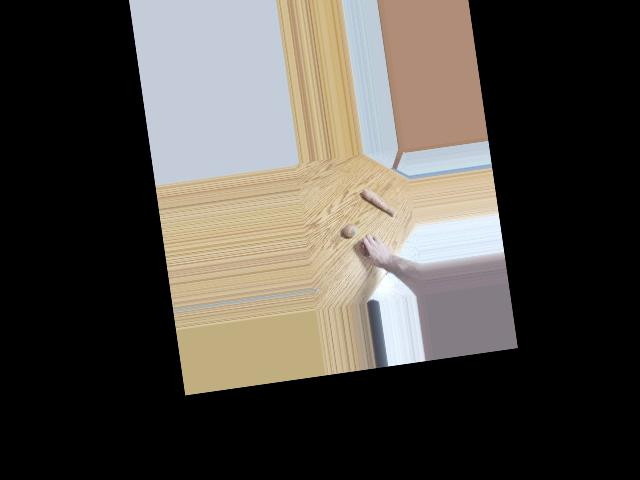onion: (359, 240, 376, 258)
